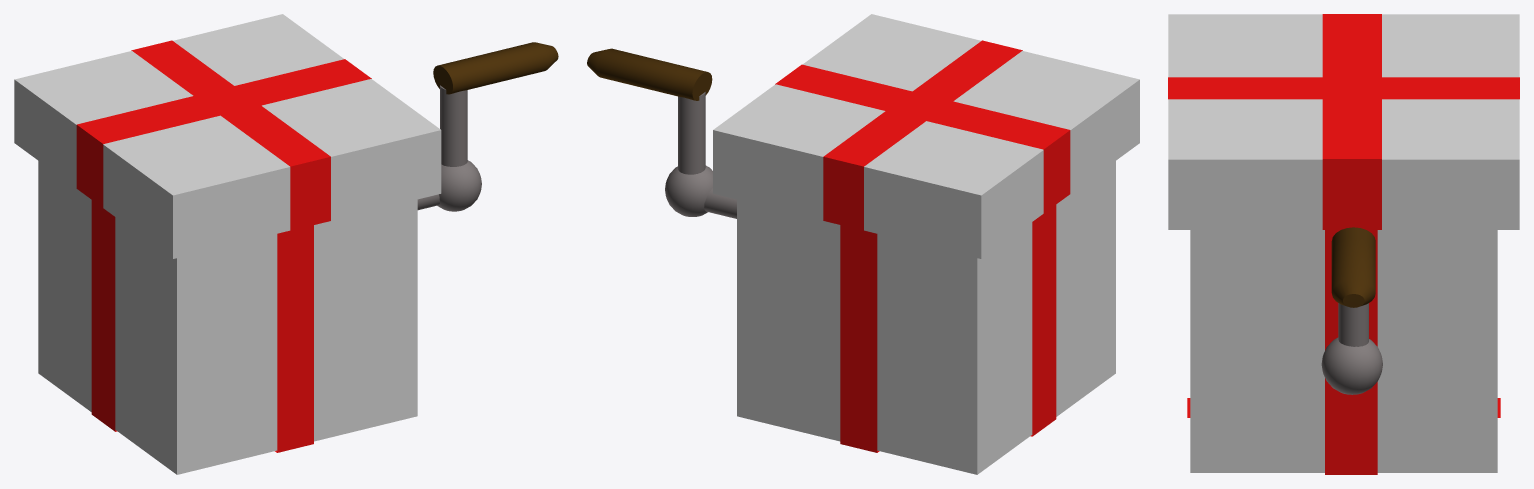
File: fnaf_musicbox.glb
3 views of the same model, side by side, from view 1: azimuth 30°, elevation 25°; view 2: azimuth 150°, elevation 25°; view 3: azimuth 270°, elevation 25° (orthographic). The views are drawn at different scales.
Parts seen in each view (by area): view 1: Object_3, Object_4, Object_5, Object_2; view 2: Object_3, Object_4, Object_5, Object_2; view 3: Object_3, Object_4, Object_5, Object_2.
Boxes of the visible parts, bbox=[...] form: Object_3: bbox=[14, 14, 441, 474]; Object_4: bbox=[76, 40, 371, 452]; Object_5: bbox=[417, 85, 481, 211]; Object_2: bbox=[433, 42, 558, 94]; Object_3: bbox=[713, 14, 1139, 474]; Object_4: bbox=[775, 40, 1070, 452]; Object_5: bbox=[665, 92, 736, 218]; Object_2: bbox=[587, 48, 712, 100]; Object_3: bbox=[1168, 14, 1519, 472]; Object_4: bbox=[1168, 14, 1519, 474]; Object_5: bbox=[1321, 303, 1382, 394]; Object_2: bbox=[1331, 227, 1375, 307].
Bounding box in the file's own units: 1.93 × 1.16 × 1.14.
